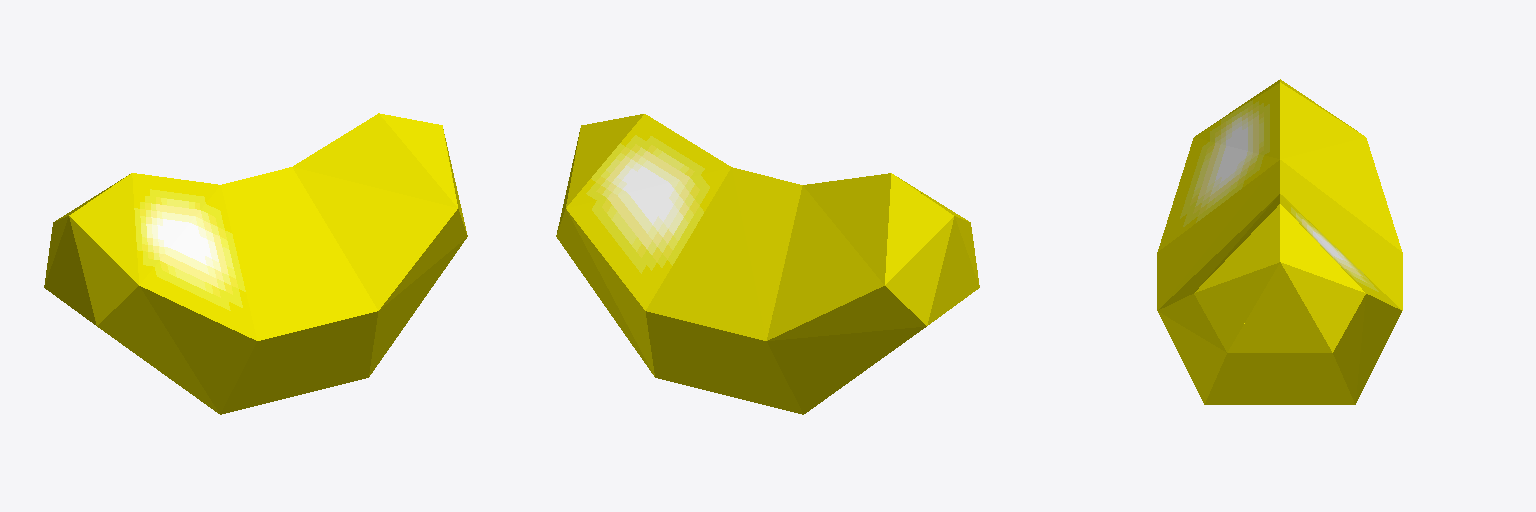
The picture shows the model from 3 angles: view 1: azimuth 30°, elevation 25°; view 2: azimuth 150°, elevation 25°; view 3: azimuth 270°, elevation 25°; orthographic projection.
Visible parts, largest first — view 1: T1L4M005_14; view 2: T1L4M005_14; view 3: T1L4M005_14.
Boxes of the visible parts, <box> form: T1L4M005_14: <box>44,113,467,414</box>; T1L4M005_14: <box>556,114,979,414</box>; T1L4M005_14: <box>1157,79,1402,404</box>.
Size of the model in its own units: 0.5547 by 0.3213 by 0.3154.
1 materials, 1 textured.